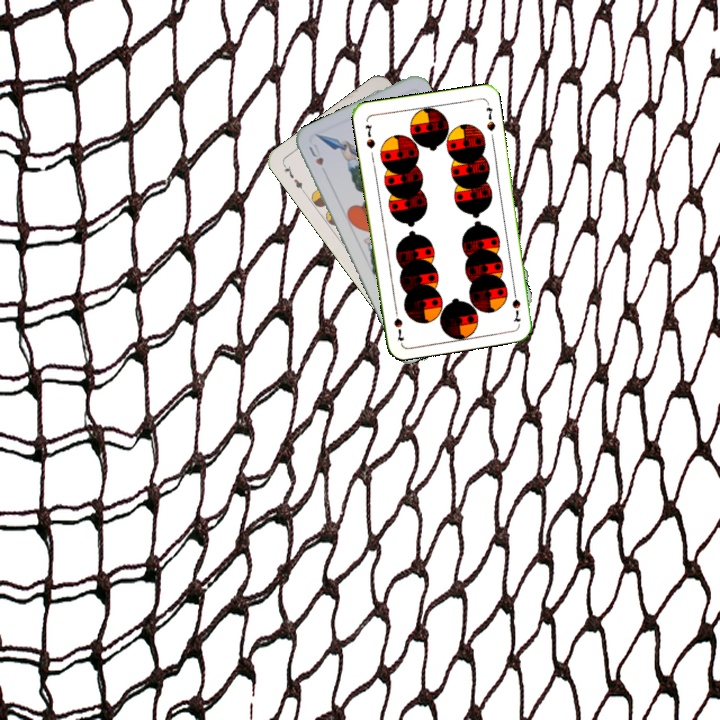E7: (279, 160, 308, 195)
HU: (305, 139, 326, 168)
S7: (508, 285, 523, 325), (361, 121, 378, 151)
